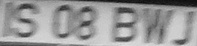0: (51, 3, 76, 41)
8: (77, 3, 97, 42)
B: (111, 4, 140, 43)
I: (1, 2, 12, 39)
J: (174, 8, 197, 45)
S: (13, 3, 39, 40)
W: (141, 5, 174, 46)
